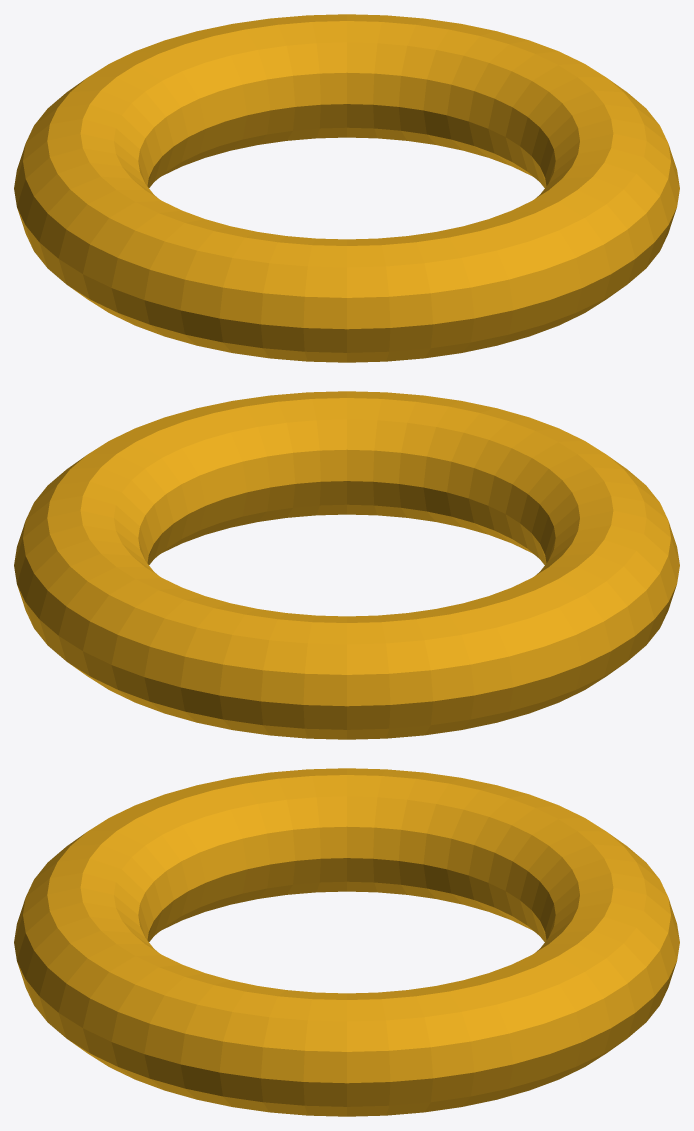
File: characterBallMesh.glb
3 renders of one model, top to bottom at view 1: azimuth 30°, elevation 25°; view 2: azimuth 150°, elevation 25°; view 3: azimuth 270°, elevation 25°, orthographic.
Visible parts, largest first — view 1: swordFar; view 2: swordFar; view 3: swordFar.
Part boxes in pixels (x1,y1,x2,y2): swordFar: (14, 14, 679, 362); swordFar: (14, 391, 679, 739); swordFar: (14, 768, 679, 1116).
Bounding box in the file's own units: 6.7 × 1.22 × 6.7.
